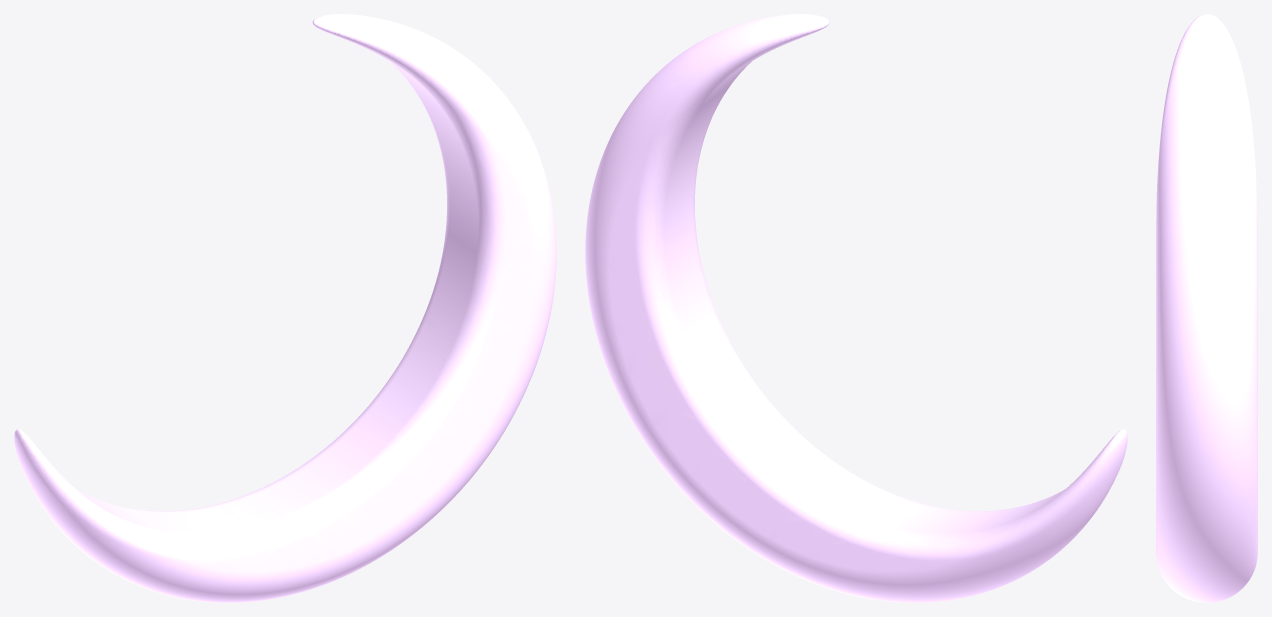
Rendered from moon-transformed.glb.
3 renders of one model, left to right at view 1: azimuth 30°, elevation 25°; view 2: azimuth 150°, elevation 25°; view 3: azimuth 270°, elevation 25°, orthographic. The views are drawn at different scales.
Parts seen in each view (by area): view 1: moon; view 2: moon; view 3: moon.
Part boxes in pixels (box(x1,y1,x2,y2)): moon: box(14, 14, 556, 602); moon: box(585, 14, 1127, 602); moon: box(1156, 14, 1257, 602).
Bounding box in the file's own units: 210 × 211 × 33.72.
1 material, 1 textured.
